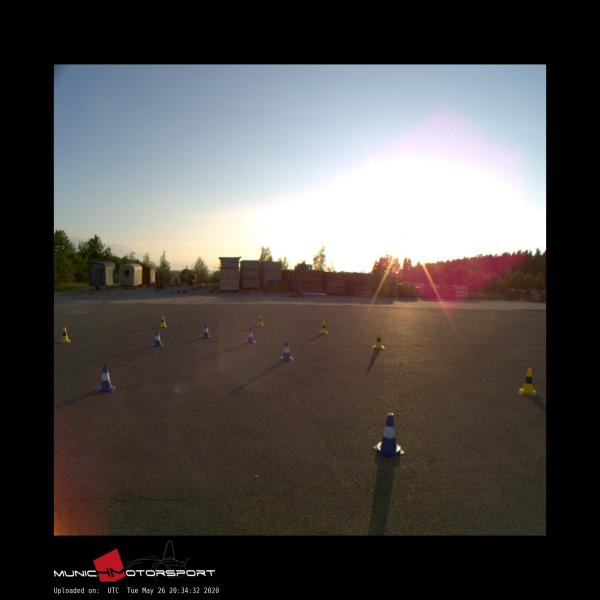blue_cone: (372, 412, 405, 456), (96, 364, 116, 392), (280, 342, 292, 360), (151, 330, 164, 346), (245, 328, 256, 343), (202, 324, 210, 338)
yellow_cone: (520, 368, 536, 395), (372, 332, 384, 349), (59, 327, 70, 342), (318, 320, 327, 333), (256, 314, 264, 326), (158, 316, 167, 326)
